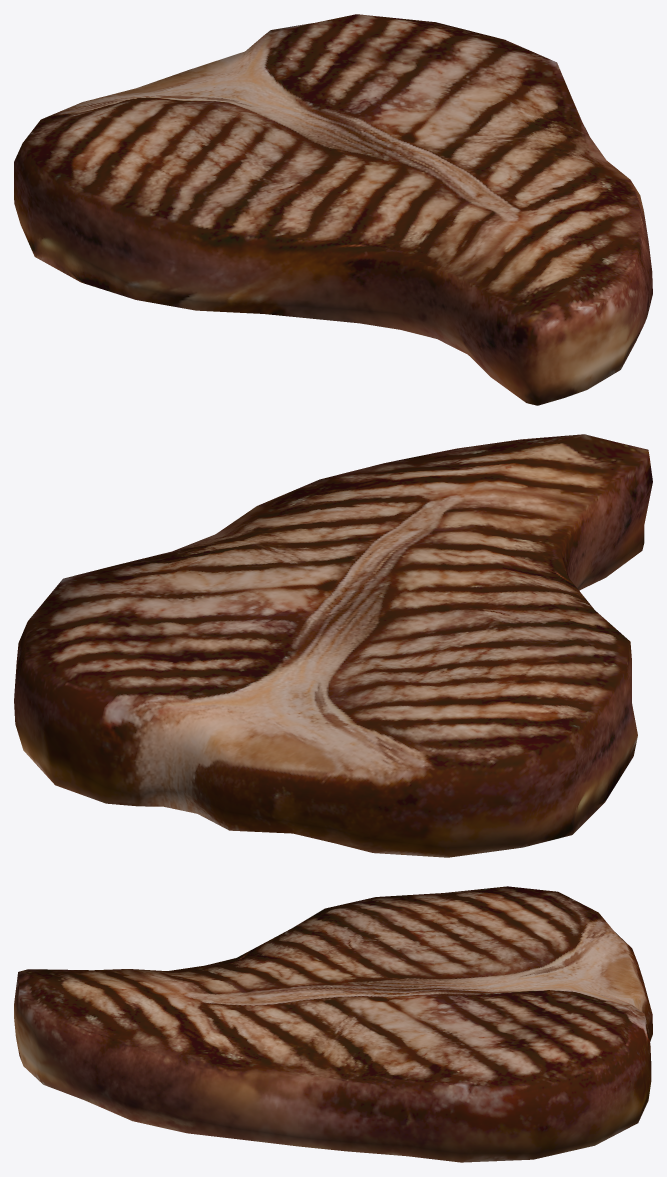
File: SM_Steak.fbx
3 renders of one model, top to bottom at view 1: azimuth 30°, elevation 25°; view 2: azimuth 150°, elevation 25°; view 3: azimuth 270°, elevation 25°, orthographic. The views are drawn at different scales.
Visible parts, largest first — view 1: STEAK_LP_T_Steak_Export; view 2: STEAK_LP_T_Steak_Export; view 3: STEAK_LP_T_Steak_Export.
Part boxes in pixels (x1=…): STEAK_LP_T_Steak_Export: x1=14, y1=14, x2=652, y2=405; STEAK_LP_T_Steak_Export: x1=14, y1=434, x2=652, y2=857; STEAK_LP_T_Steak_Export: x1=14, y1=886, x2=652, y2=1162.
Size of the model in its own units: 11.64 by 2.42 by 14.96.
